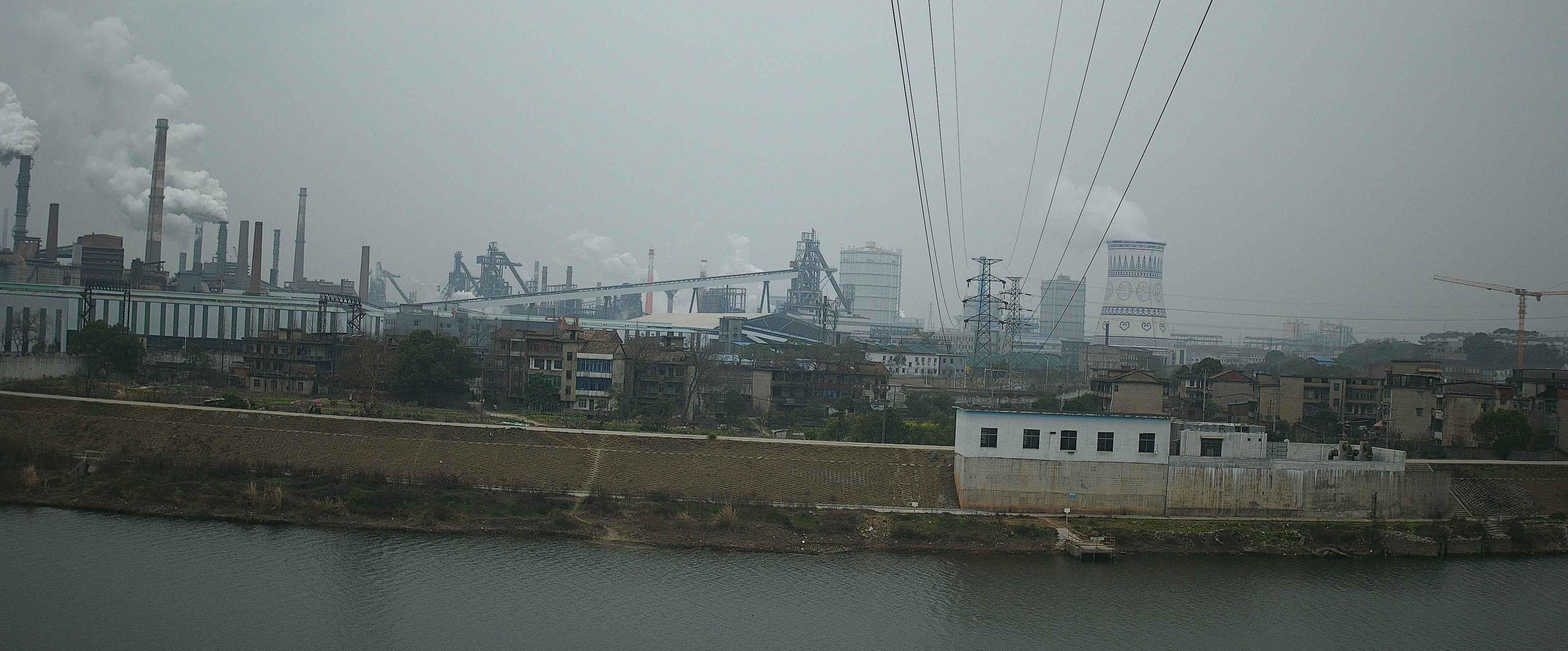工厂排烟: (0, 16, 229, 241), (0, 35, 194, 254), (1018, 167, 1154, 242), (563, 221, 666, 318), (714, 232, 775, 313), (404, 276, 507, 317), (0, 79, 41, 167), (369, 267, 383, 286), (898, 309, 906, 318)
